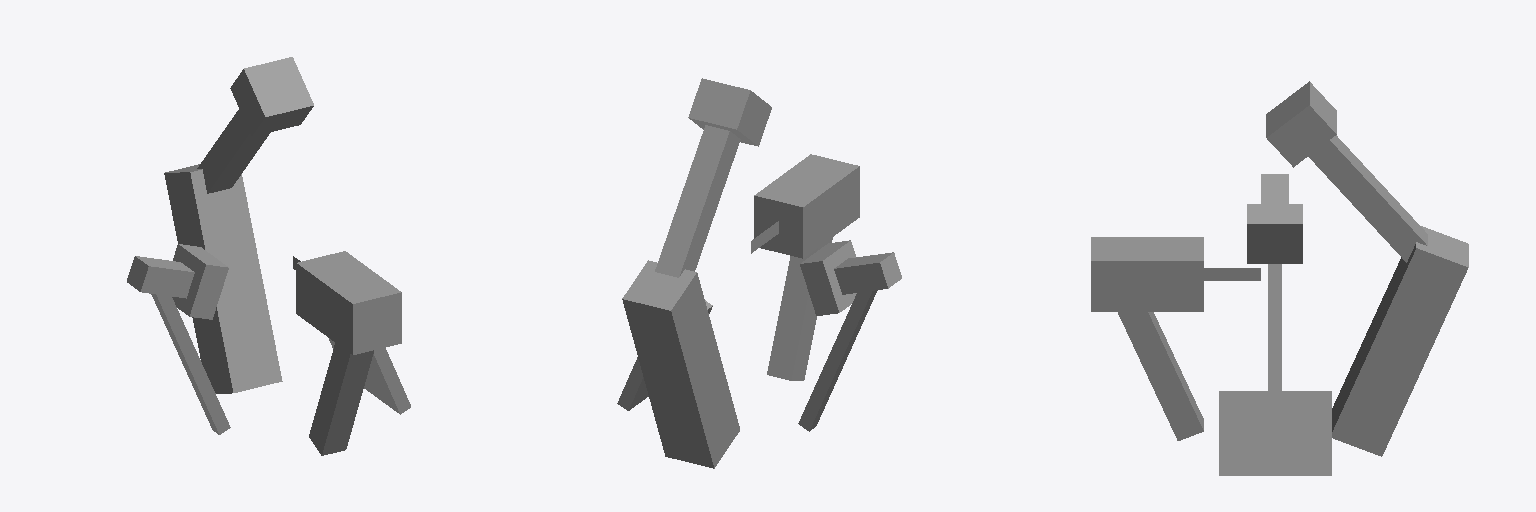
Rendered from rocket_workbench.obj.
3 renders of one model, left to right at view 1: azimuth 30°, elevation 25°; view 2: azimuth 150°, elevation 25°; view 3: azimuth 270°, elevation 25°, orthographic.
Visible parts, largest first — view 1: small_arm, pliers, arm, drill_bit, top, handle, light, holder; view 2: small_arm, pliers, top, drill_bit, arm, handle, light, holder; view 3: small_arm, holder, pliers, top, drill_bit, arm, handle, light, drill.
Part boxes in pixels (bbox=[...]): small_arm: bbox=[164, 164, 282, 393]; pliers: bbox=[296, 251, 401, 354]; arm: bbox=[230, 57, 313, 136]; drill_bit: bbox=[309, 343, 373, 455]; top: bbox=[197, 109, 270, 193]; handle: bbox=[151, 294, 230, 434]; light: bbox=[127, 256, 194, 298]; holder: bbox=[329, 338, 410, 414]; small_arm: bbox=[622, 240, 856, 468]; pliers: bbox=[754, 154, 859, 258]; top: bbox=[655, 125, 740, 277]; drill_bit: bbox=[767, 237, 832, 380]; arm: bbox=[688, 78, 771, 146]; handle: bbox=[798, 290, 877, 431]; light: bbox=[834, 252, 901, 294]; holder: bbox=[617, 300, 712, 410]; small_arm: bbox=[1247, 204, 1468, 456]; holder: bbox=[1219, 391, 1331, 475]; pliers: bbox=[1091, 237, 1203, 311]; top: bbox=[1308, 135, 1427, 262]; drill_bit: bbox=[1118, 312, 1203, 440]; arm: bbox=[1266, 81, 1336, 167]; handle: bbox=[1268, 264, 1281, 390]; light: bbox=[1261, 174, 1288, 203]; drill: bbox=[1204, 268, 1260, 280].
Bounding box in the file's own units: 1.28 × 1.72 × 1.67.